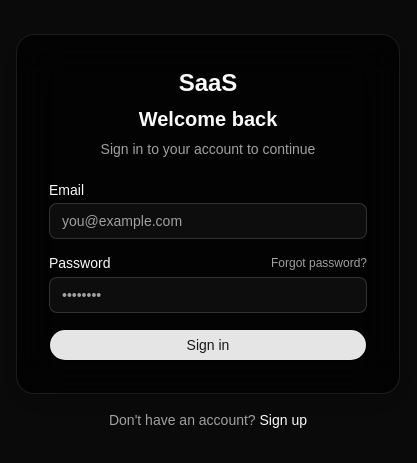
Test: Login › shows error on failed login
Type "test@example.com" into the field labelled "Email" at coordinates (208, 221), box [49,203,367,239]
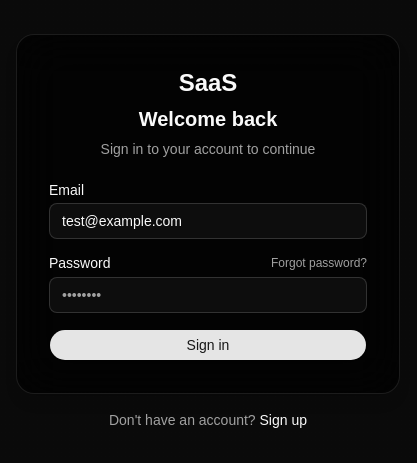
Type "wrong" into the password field labelled "Password" at coordinates (208, 295), box [49,277,367,313]
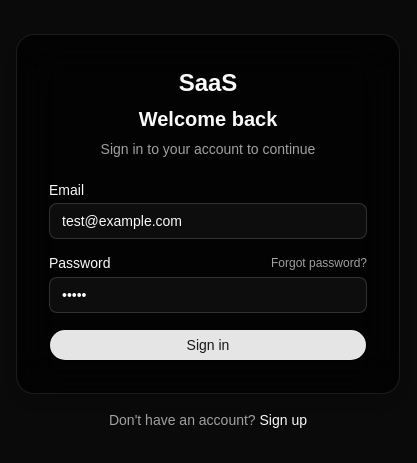
Click the button "Sign in" at coordinates (208, 345), box [49,329,367,361]
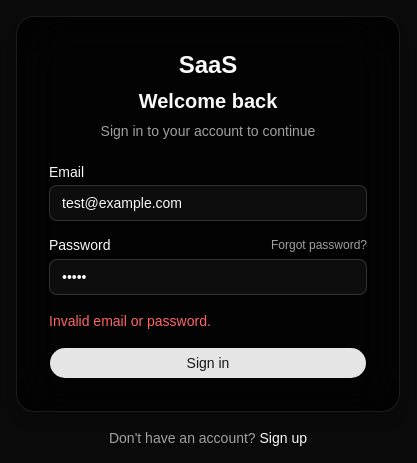
Result: the text "Invalid email or password." is shown at [49,313,211,329]
